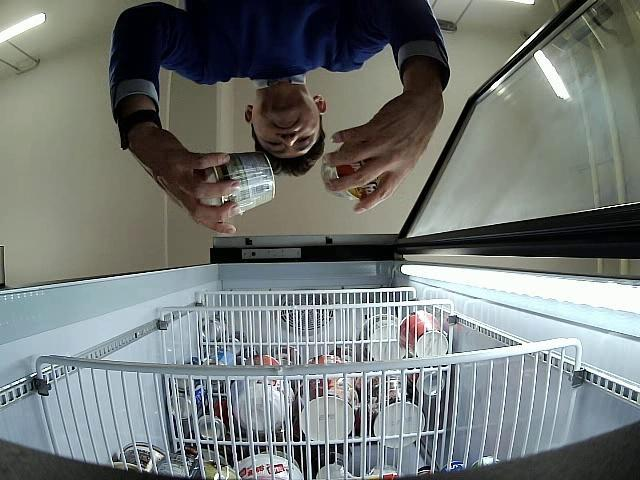04_chapagetti_S: (205, 152, 276, 218), (322, 156, 388, 200)
